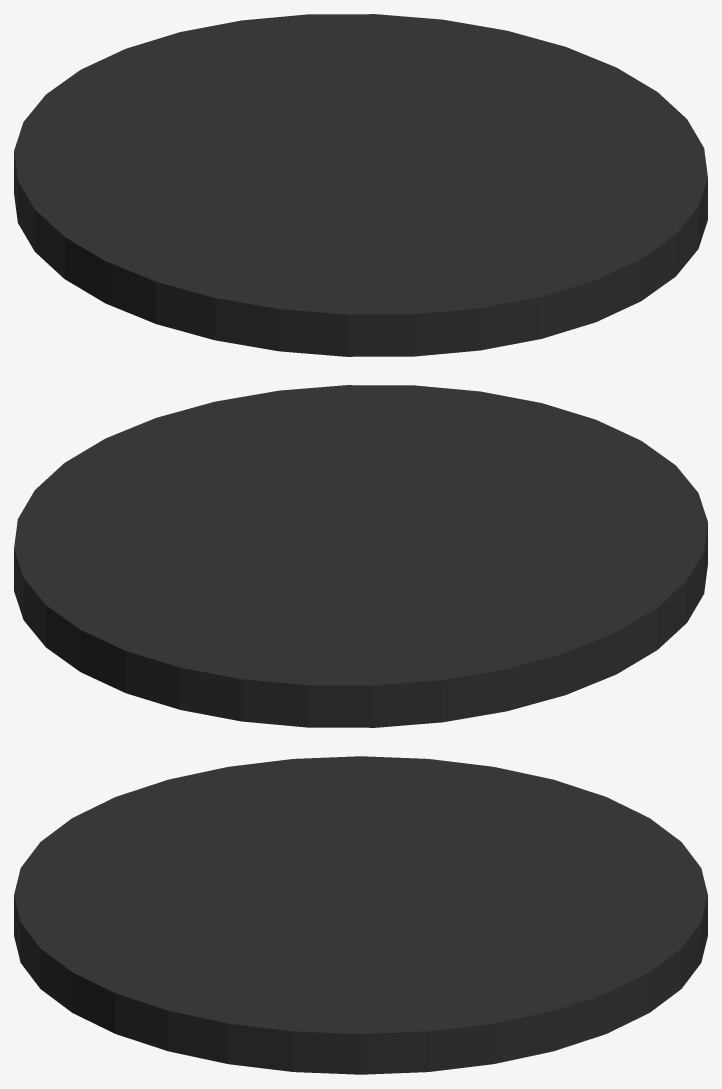
File: ObjectHole.dae
3 views of the same model, one above another, from view 1: azimuth 30°, elevation 25°; view 2: azimuth 150°, elevation 25°; view 3: azimuth 270°, elevation 25° (orthographic). The views are drawn at different scales.
Parts seen in each view (by area): view 1: Cylinder; view 2: Cylinder; view 3: Cylinder.
Boxes of the visible parts, <box> form: Cylinder: <box>14,14,707,356</box>; Cylinder: <box>14,385,707,727</box>; Cylinder: <box>14,756,707,1074</box>.
Size of the model in its own units: 2.08 by 2.2 by 0.1418.
